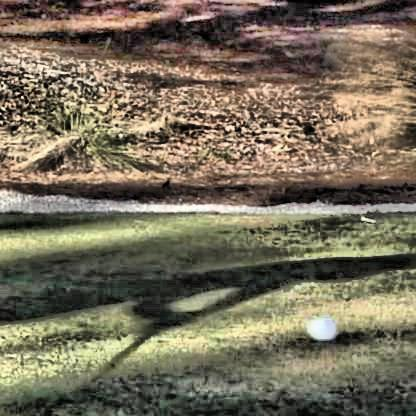golfball: (305, 315, 334, 339)
